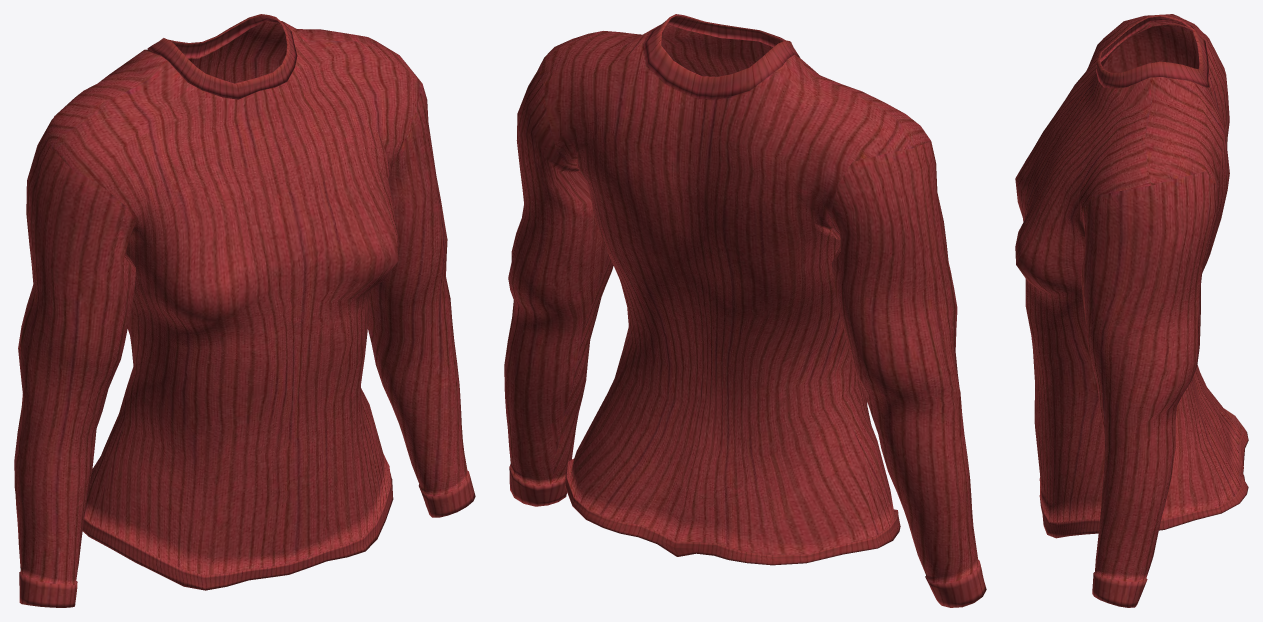
The model's file is toigo-fisherman-sweater.glb.
The picture shows the model from 3 angles, left to right: view 1: azimuth 30°, elevation 25°; view 2: azimuth 150°, elevation 25°; view 3: azimuth 270°, elevation 25°; orthographic projection. The views are drawn at different scales.
Parts seen in each view (by area): view 1: Human.toigo_fisherman_sweater; view 2: Human.toigo_fisherman_sweater; view 3: Human.toigo_fisherman_sweater.
Part boxes in pixels (x1,y1,x2,y2): Human.toigo_fisherman_sweater: (14,14,475,607); Human.toigo_fisherman_sweater: (504,14,986,607); Human.toigo_fisherman_sweater: (1015,14,1248,607).
Size of the model in its own units: 0.5182 by 0.5647 by 0.2507.
1 material, 1 textured.
